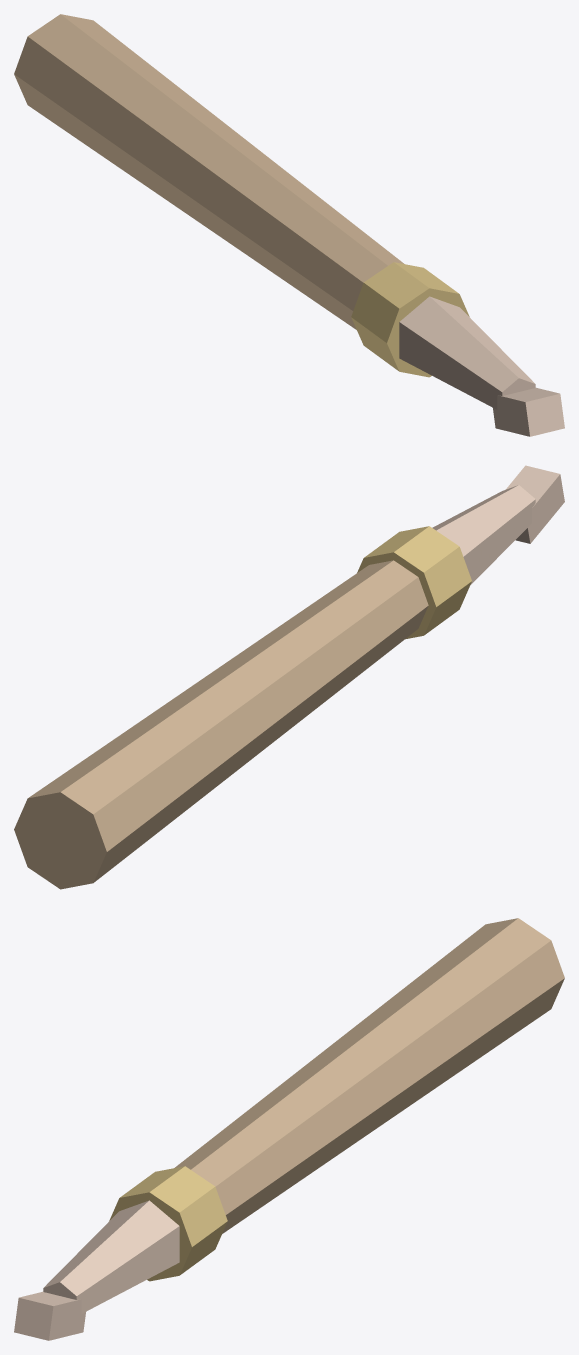
File: prop-agate-burnisher.fbx
3 views of the same model, one above another, from view 1: azimuth 30°, elevation 25°; view 2: azimuth 150°, elevation 25°; view 3: azimuth 330°, elevation 25° (orthographic).
Visible parts, largest first — view 1: prop-agate-burnisher; view 2: prop-agate-burnisher; view 3: prop-agate-burnisher.
Boxes of the visible parts, x1=… form: prop-agate-burnisher: x1=14, y1=14, x2=564, y2=436; prop-agate-burnisher: x1=14, y1=465, x2=564, y2=889; prop-agate-burnisher: x1=14, y1=918, x2=564, y2=1340.
Bounding box in the file's own units: 2.4 × 2.4 × 21.78.
